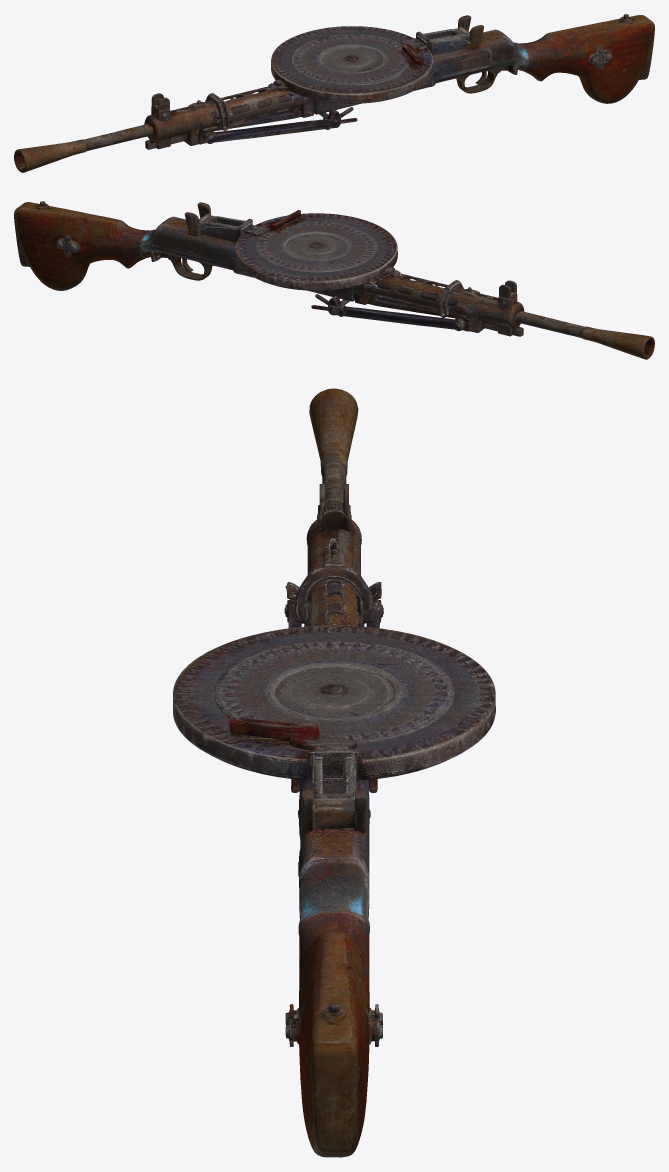
File: lewis_lod0.glb
3 renders of one model, top to bottom at view 1: azimuth 30°, elevation 25°; view 2: azimuth 150°, elevation 25°; view 3: azimuth 270°, elevation 25°, orthographic. The views are drawn at different scales.
Visible parts, largest first — view 1: lewis; view 2: lewis; view 3: lewis.
Part boxes in pixels (box(x1,y1,x2,y2)): lewis: box(14, 14, 654, 172); lewis: box(14, 201, 654, 359); lewis: box(173, 388, 495, 1157).
Bounding box in the file's own units: 1.9 × 0.3302 × 0.4221.
Materials: 1 (1 with a texture image).
